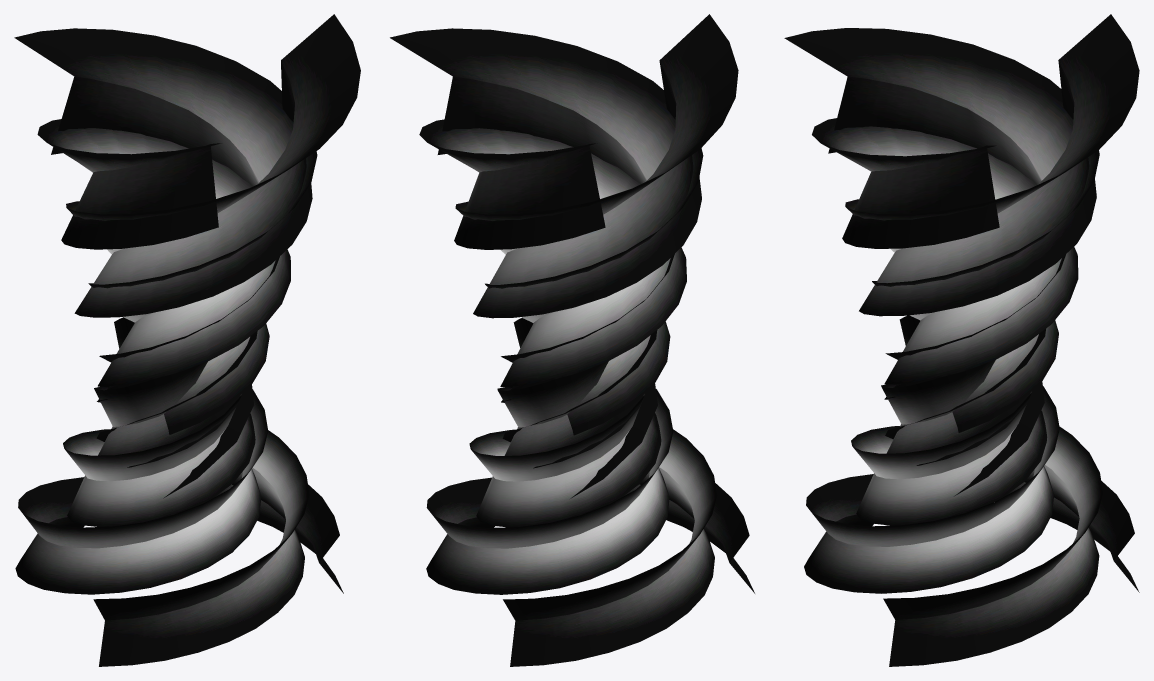
Rendered from vfx_kurp_1008.dae.
3 renders of one model, left to right at view 1: azimuth 30°, elevation 25°; view 2: azimuth 150°, elevation 25°; view 3: azimuth 270°, elevation 25°, orthographic. The views are drawn at different scales.
Visible parts, largest first — view 1: vfx_kurp_1008; view 2: vfx_kurp_1008; view 3: vfx_kurp_1008.
Part boxes in pixels (<box>): vfx_kurp_1008: <box>14,14,360,666</box>; vfx_kurp_1008: <box>390,14,754,666</box>; vfx_kurp_1008: <box>784,14,1139,666</box>.
Bounding box in the file's own units: 8.13 × 8.08 × 13.59.
1 material, 1 textured.
